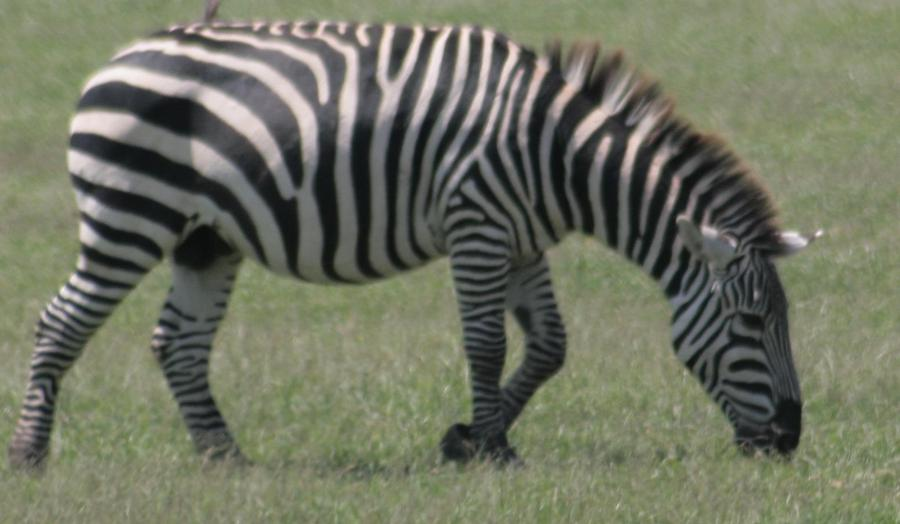zebra_plains: (42, 9, 572, 326)
